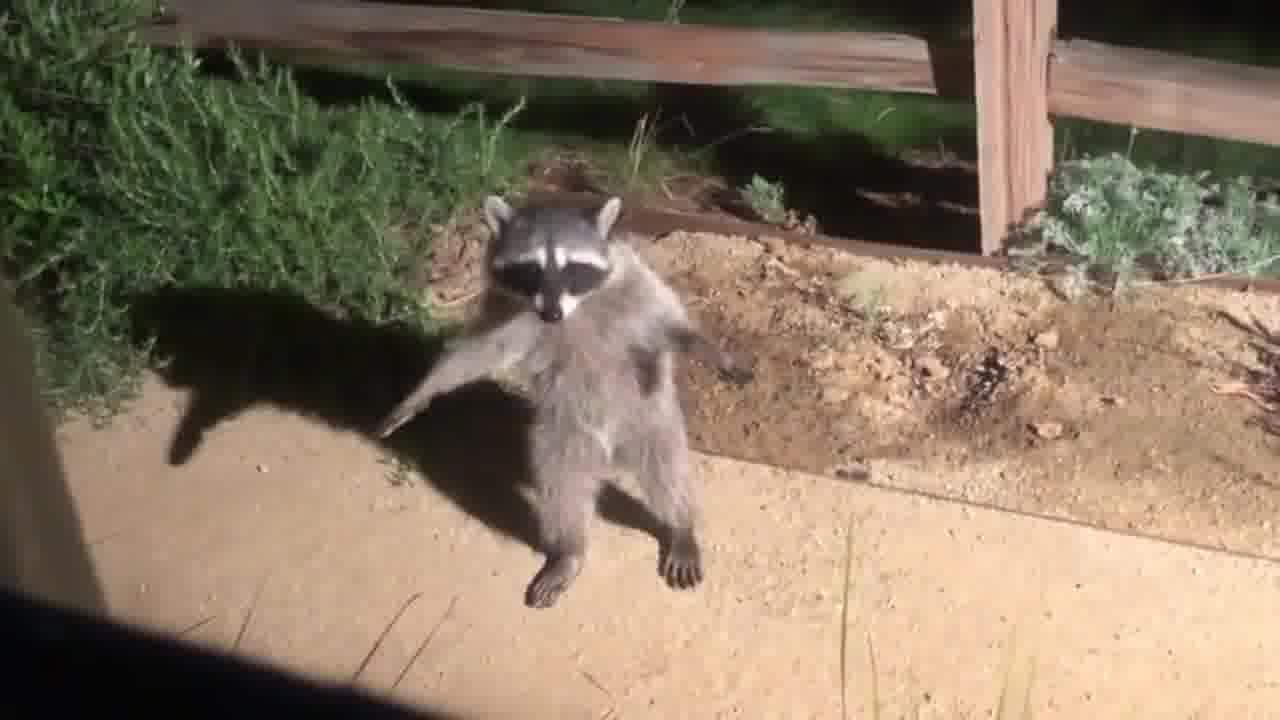raccoon: (370, 187, 760, 613)
